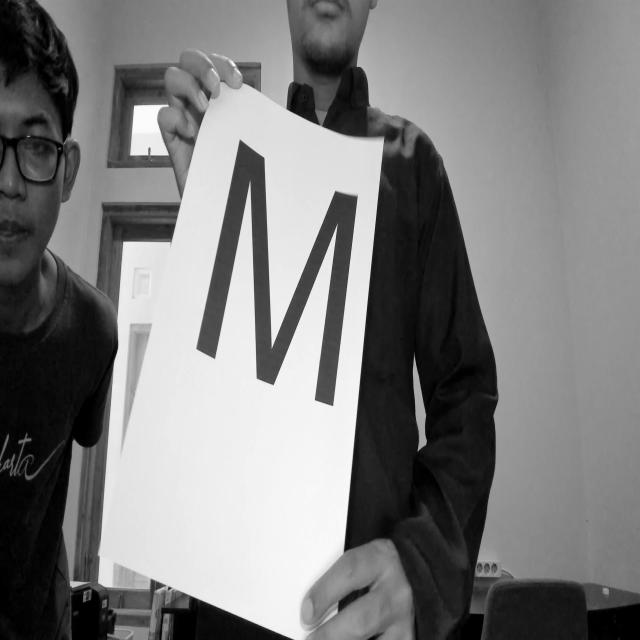m: (183, 108, 388, 442)
